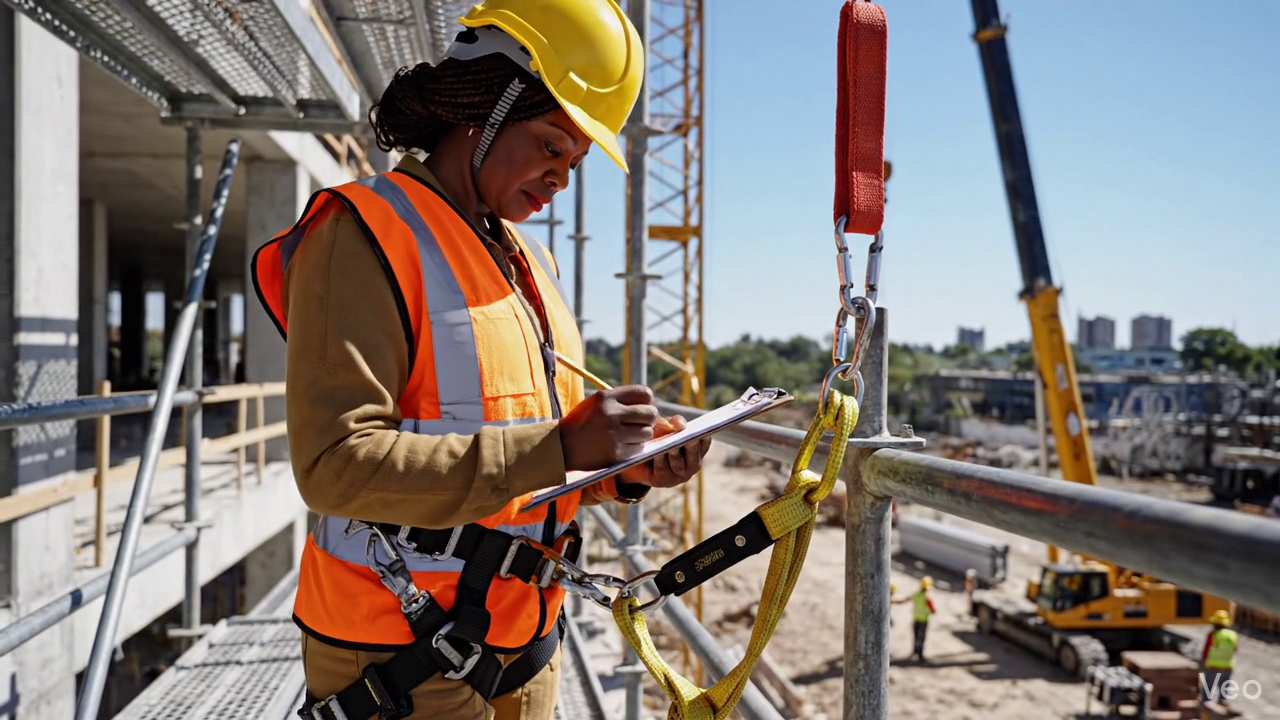p: (253, 0, 708, 719), (660, 419, 677, 433), (670, 420, 674, 421)
